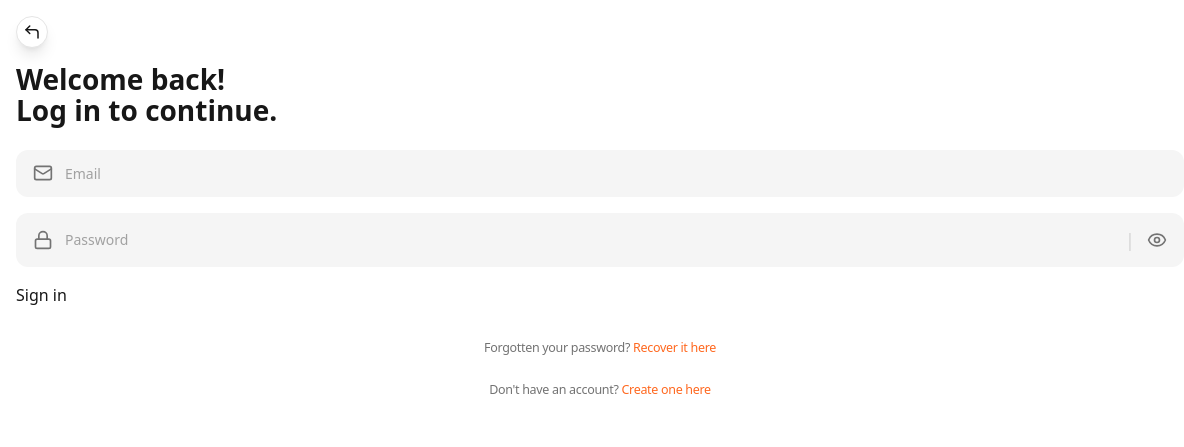
Test case: SignInForm › tells a suspended user the admin's reason (M6)
Type "chidi@unilag.edu.ng" into the field with placeholder "Email" at (616, 173), box [65,163,1167,184]
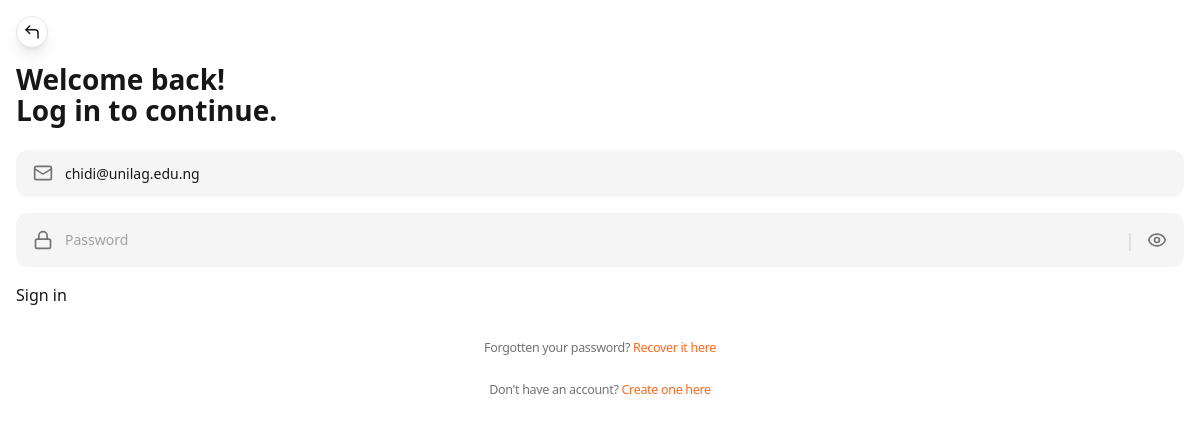
Type "Campus2026" into the password field with placeholder "Password" at (593, 240), box [65,229,1121,250]
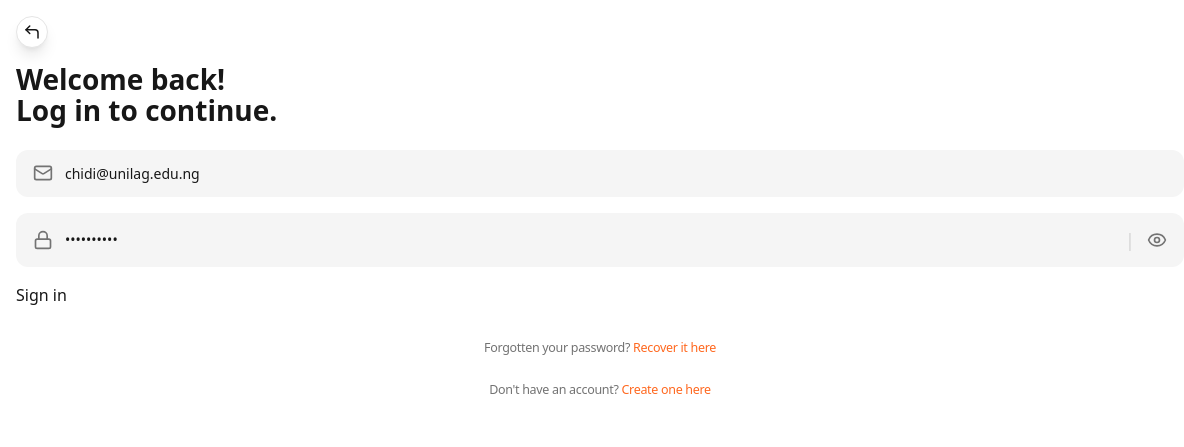
Click the button "Sign in" at (41, 295), box [16,283,67,307]
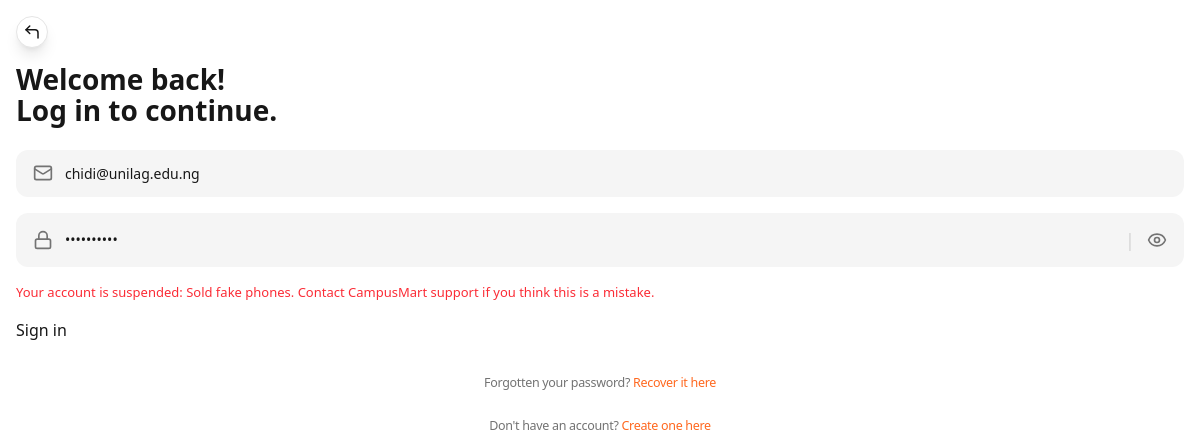
Check: the message shows "Sold fake phones", box [16,283,654,301]
